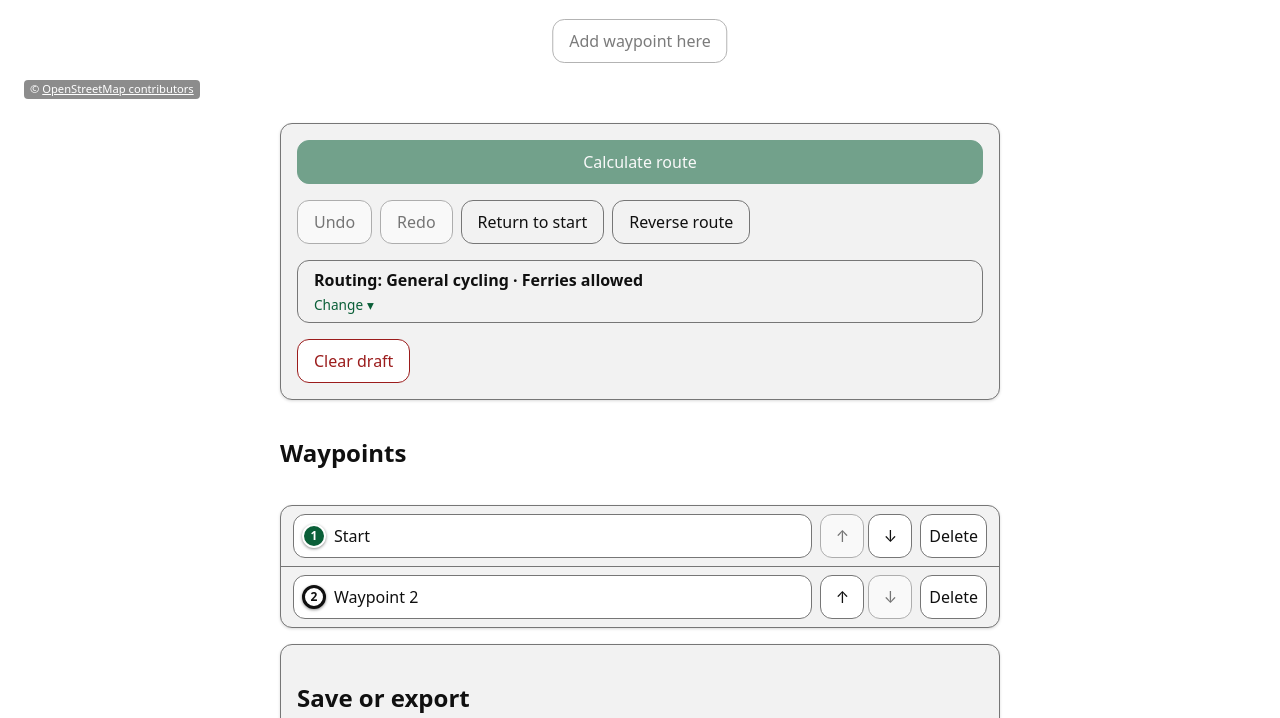
Test: PlanningScreen Clear draft (backlog item 37) › opens the confirmation with the exact required copy, focused on Cancel
(page scrolled)
What coordinates should you click on to do the following:
click the button "Clear draft"
I would click on:
 (354, 361)
Its box is x1=297 y1=339 x2=410 y2=383.
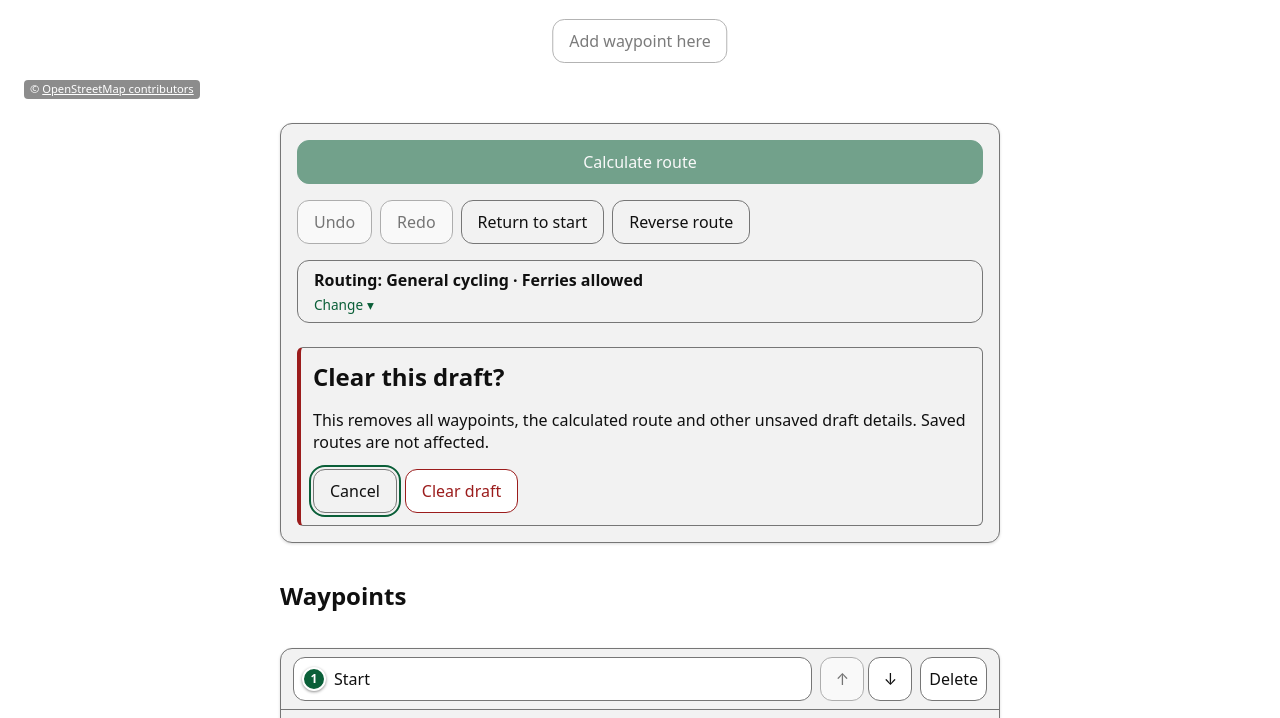
expect the button "Clear draft" is shown: met, box x1=405 y1=469 x2=518 y2=513
expect the dialog shows "Clear this draft?": met, box x1=313 y1=360 x2=504 y2=393
expect the dialog shows "This removes all waypoints, the calculated route and other unsaved draft details. Saved routes are not affected.": met, box x1=313 y1=409 x2=966 y2=453
